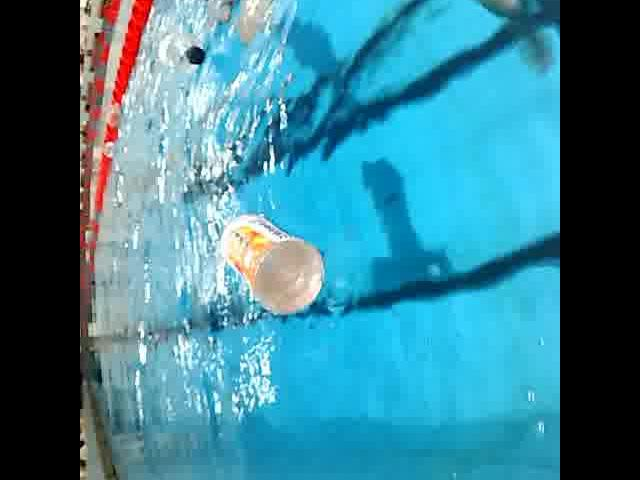Bottle: (209, 199, 331, 319), (143, 22, 215, 78)
